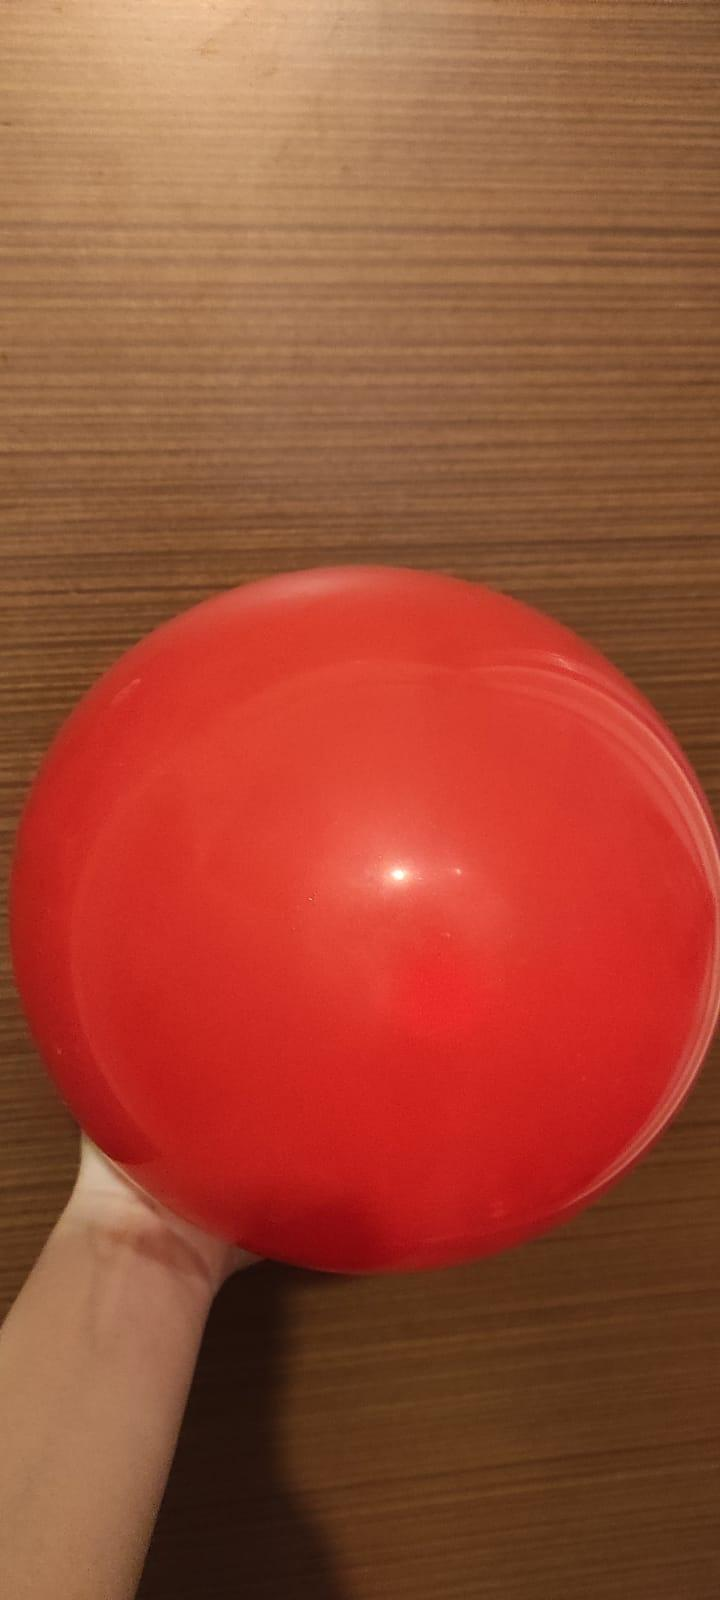red: (4, 551, 720, 1279)
